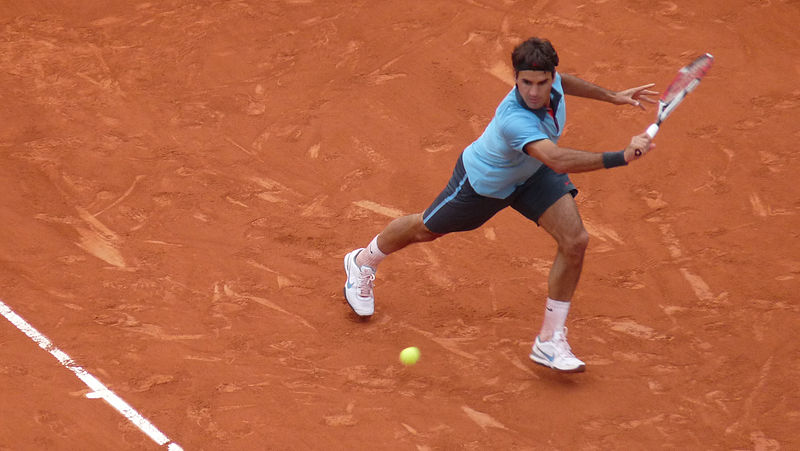tennis_ball: (398, 346, 420, 368)
